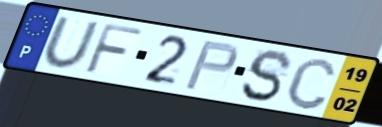2: (143, 34, 189, 88)
C: (283, 56, 339, 112)
F: (81, 21, 146, 77)
P: (181, 39, 242, 93)
S: (238, 48, 295, 104)
U: (41, 15, 102, 71)
